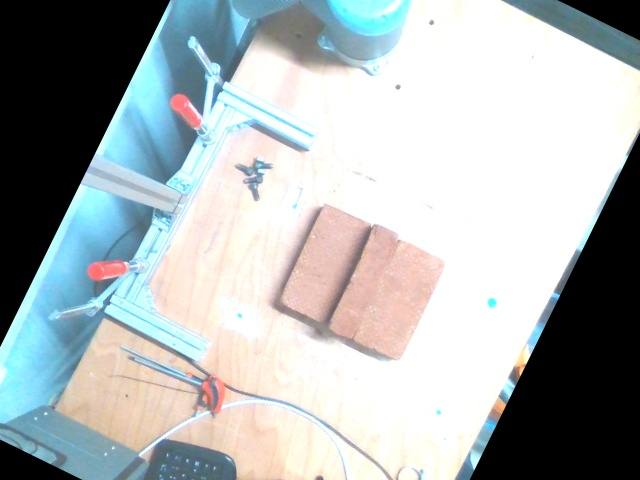brick: (278, 204, 370, 326), (354, 241, 446, 361)
brick-side: (328, 221, 402, 341)
